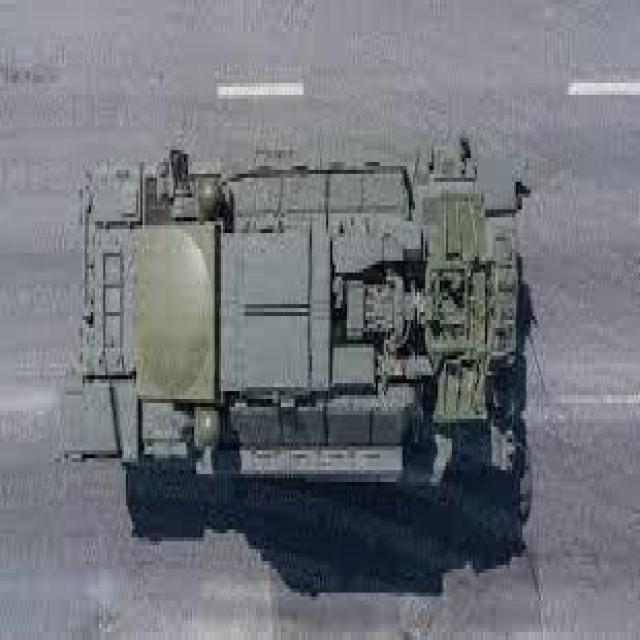Tanks: (79, 150, 532, 541)
